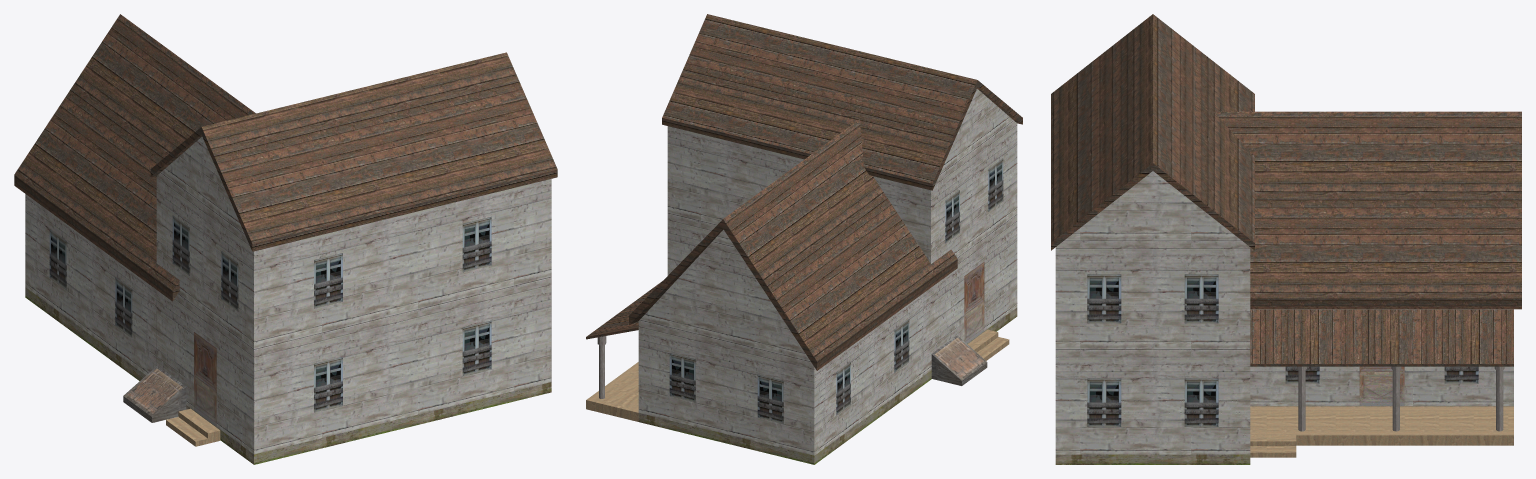
The model's file is psx_abandoned_house.glb.
The picture shows the model from 3 angles, left to right: view 1: azimuth 30°, elevation 25°; view 2: azimuth 150°, elevation 25°; view 3: azimuth 270°, elevation 25°; orthographic projection. The views are drawn at different scales.
Parts seen in each view (by area): view 1: PSX Abandoned House; view 2: PSX Abandoned House; view 3: PSX Abandoned House.
Boxes of the visible parts, x1=… form: PSX Abandoned House: x1=14, y1=14, x2=557, y2=464; PSX Abandoned House: x1=586, y1=14, x2=1022, y2=464; PSX Abandoned House: x1=1051, y1=14, x2=1521, y2=464.
Size of the model in its own units: 6.77 by 5.86 by 8.22.
Materials: 9 (9 with a texture image).
